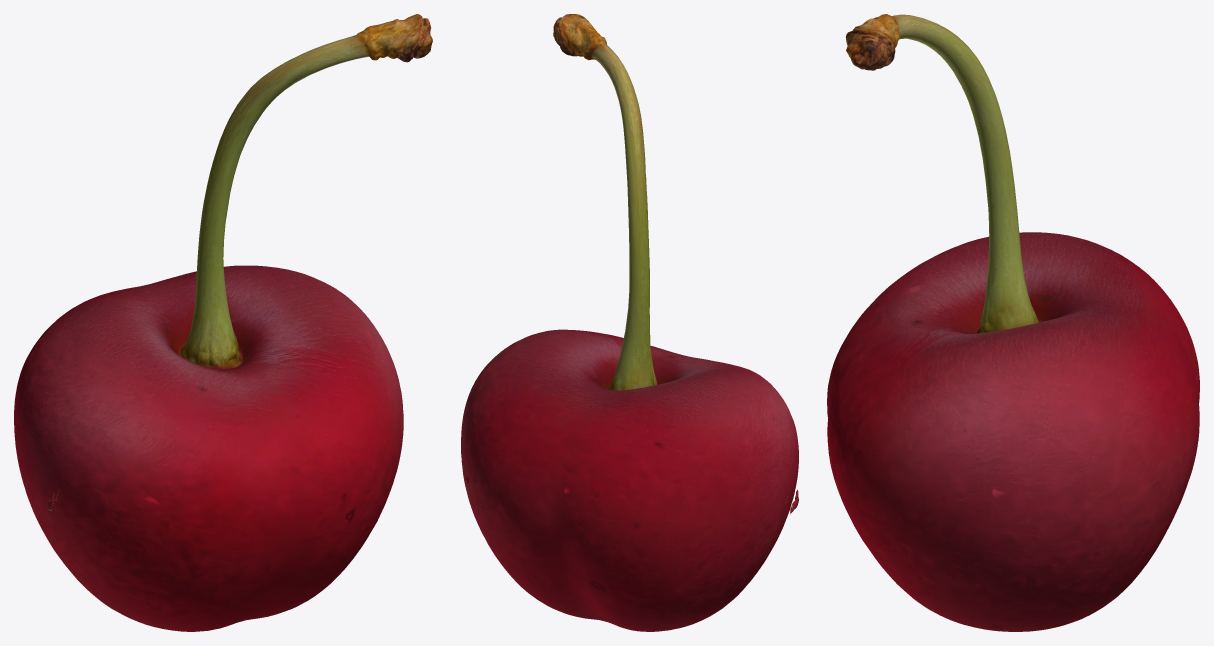
Rendered from bk-berry-cherry.glb.
3 views of the same model, side by side, from view 1: azimuth 30°, elevation 25°; view 2: azimuth 150°, elevation 25°; view 3: azimuth 270°, elevation 25° (orthographic). The views are drawn at different scales.
Parts seen in each view (by area): view 1: node_0; view 2: node_0; view 3: node_0.
Part boxes in pixels (x1,y1,x2,y2): node_0: (14,14,432,631); node_0: (461,14,798,631); node_0: (827,14,1199,631).
Size of the model in its own units: 0.6011 by 0.9975 by 0.5238.
1 material, 1 textured.
